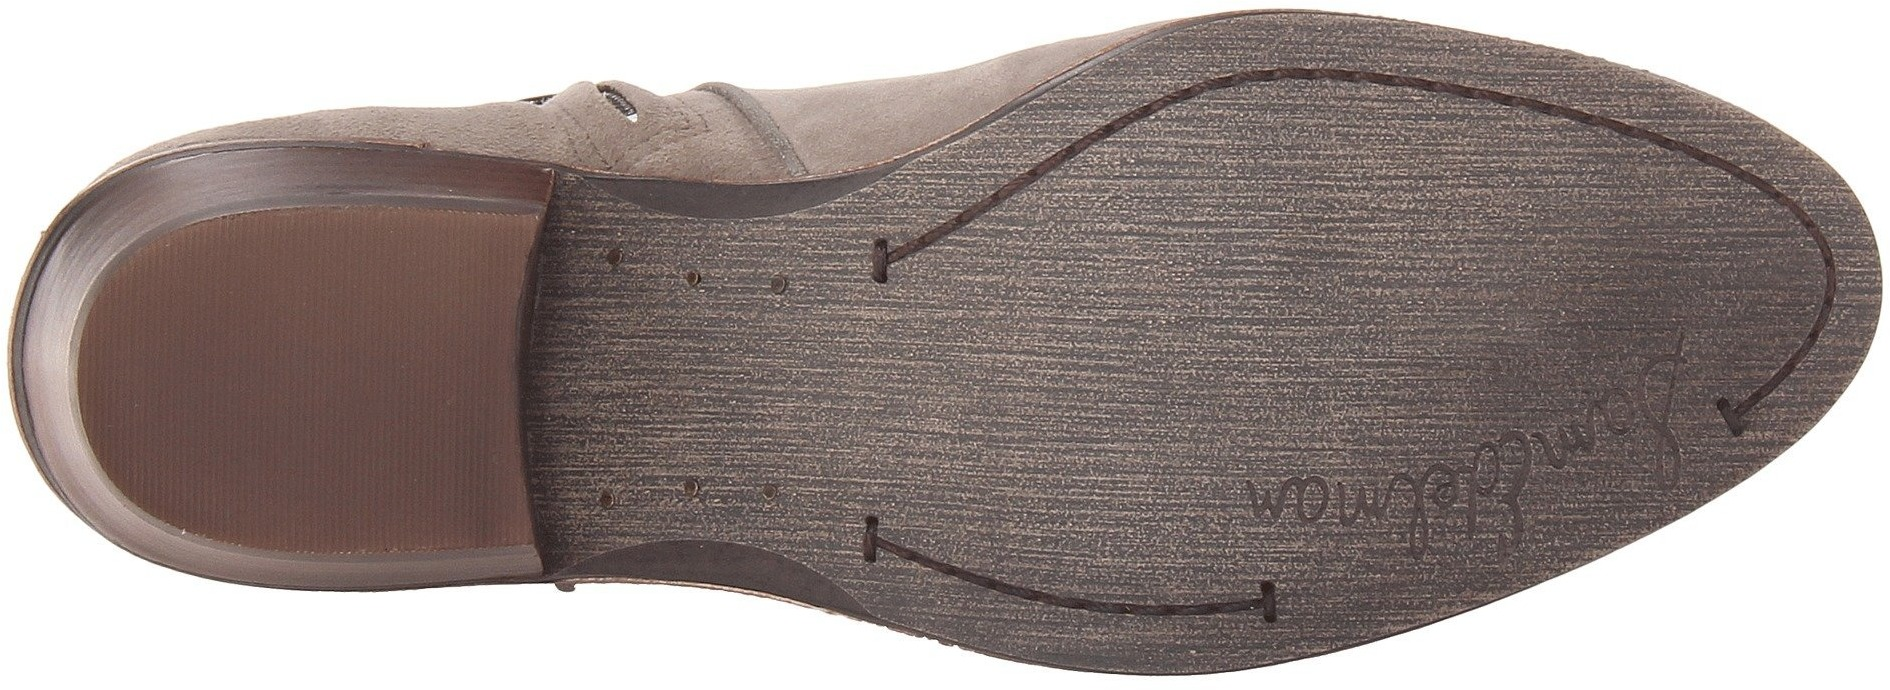other: (243, 216, 523, 501), (95, 302, 242, 457)
text: (1240, 427, 1436, 625), (1499, 353, 1683, 533)
